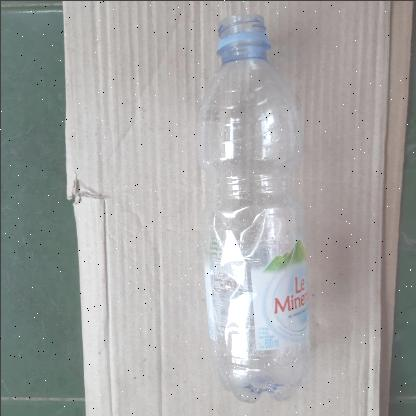Plastic Bottle: (200, 12, 312, 404)
